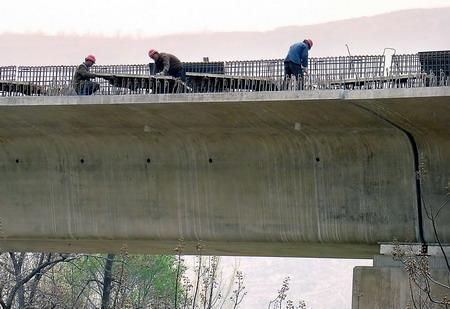helmet: (144, 46, 162, 62), (300, 37, 317, 50), (82, 53, 96, 68)
